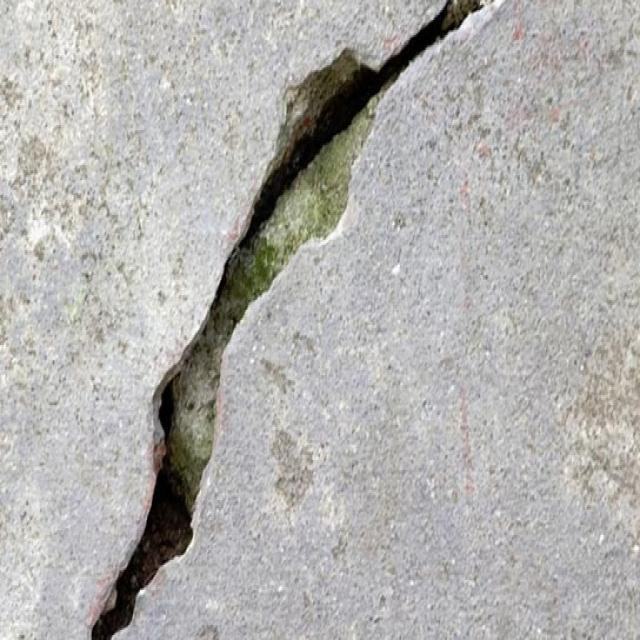Diagonal: (88, 0, 500, 640)
